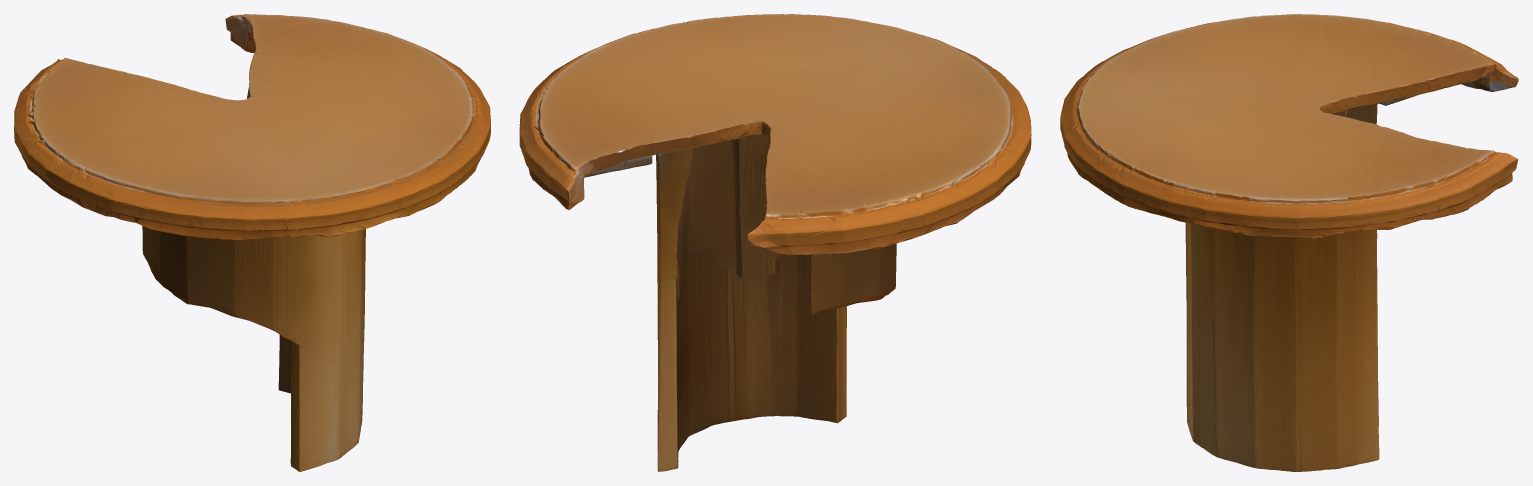
Rendered from hunyuan3d_textured.obj.
The picture shows the model from 3 angles, left to right: view 1: azimuth 30°, elevation 25°; view 2: azimuth 150°, elevation 25°; view 3: azimuth 270°, elevation 25°; orthographic projection. The views are drawn at different scales.
Parts seen in each view (by area): view 1: hunyuan3d_textured; view 2: hunyuan3d_textured; view 3: hunyuan3d_textured.
Part boxes in pixels (left/top/right/bottom): hunyuan3d_textured: left=14, top=14, right=490, bottom=471; hunyuan3d_textured: left=519, top=14, right=1031, bottom=471; hunyuan3d_textured: left=1060, top=14, right=1518, bottom=471.
Size of the model in its own units: 1.99 by 1.48 by 1.92.
Materials: 1 (1 with a texture image).
